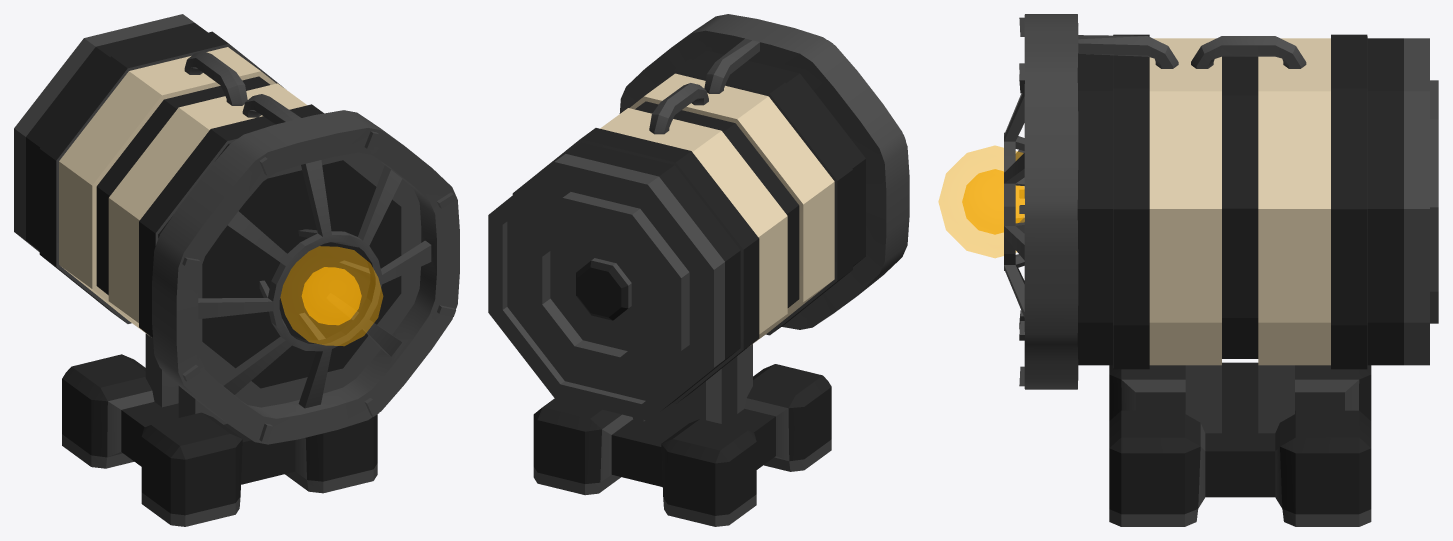
File: Излучатель.fbx
3 views of the same model, side by side, from view 1: azimuth 30°, elevation 25°; view 2: azimuth 150°, elevation 25°; view 3: azimuth 270°, elevation 25° (orthographic). The views are drawn at different scales.
Visible parts, largest first — view 1: Cylinder, Sphere.001; view 2: Cylinder; view 3: Cylinder, Sphere.001.
Boxes of the visible parts, x1=… form: Cylinder: x1=14, y1=14, x2=459, y2=526; Sphere.001: x1=280, y1=246, x2=382, y2=345; Cylinder: x1=488, y1=14, x2=909, y2=526; Cylinder: x1=1004, y1=14, x2=1438, y2=526; Sphere.001: x1=938, y1=145, x2=1024, y2=257.
Bounding box in the file's own units: 219 × 294 × 306.
